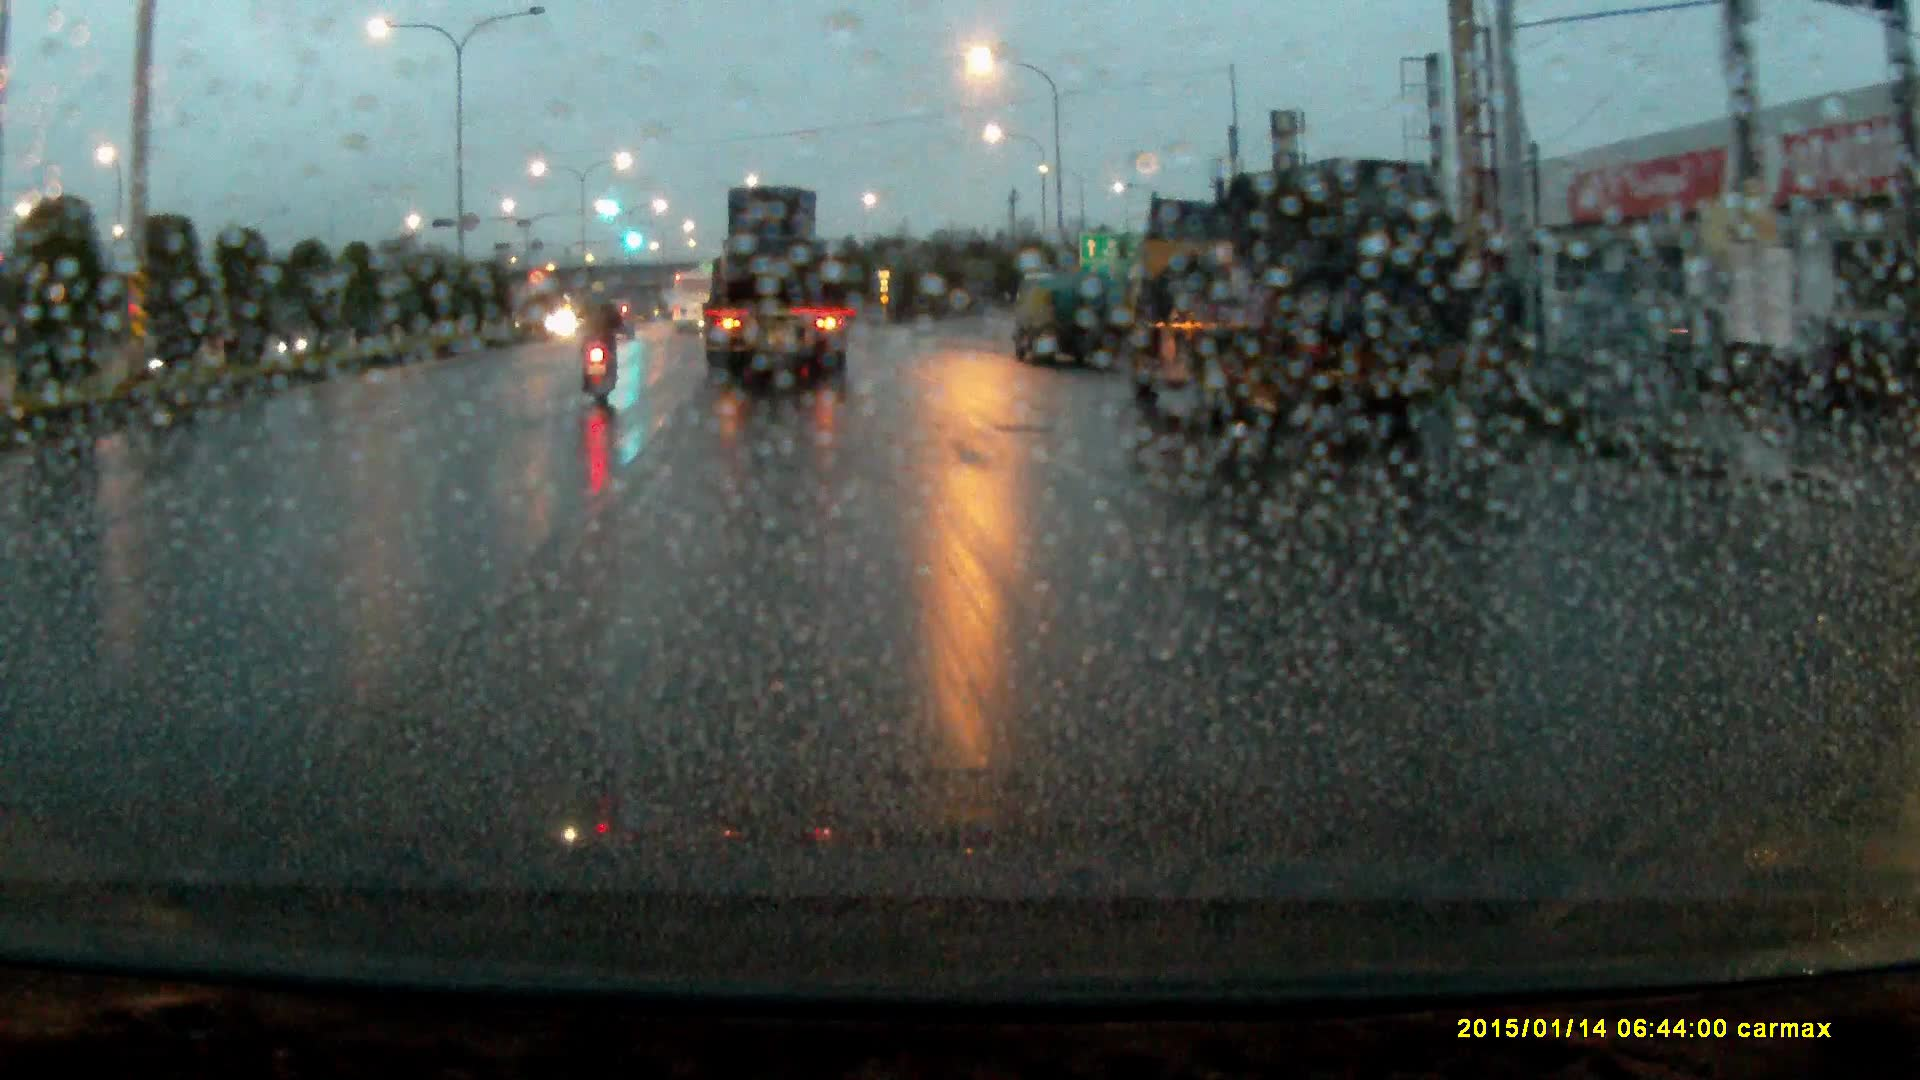rider: (573, 272, 627, 406)
vehicle: (1131, 160, 1457, 452), (699, 183, 854, 385), (1011, 268, 1120, 369), (673, 271, 713, 335), (592, 284, 637, 327)
